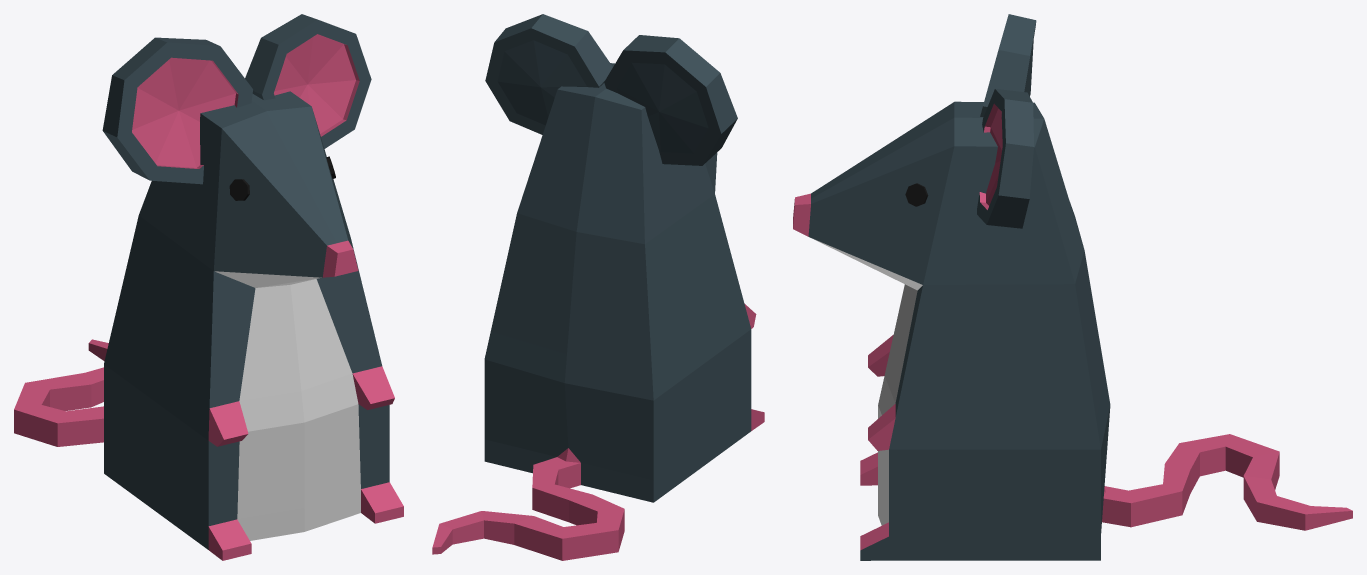
File: Mouse_01.fbx
The picture shows the model from 3 angles, left to right: view 1: azimuth 30°, elevation 25°; view 2: azimuth 150°, elevation 25°; view 3: azimuth 270°, elevation 25°; orthographic projection. The views are drawn at different scales.
Visible parts, largest first — view 1: Mouse_01; view 2: Mouse_01; view 3: Mouse_01.
Part boxes in pixels (bbox=[...]): Mouse_01: bbox=[14, 14, 403, 560]; Mouse_01: bbox=[432, 14, 764, 560]; Mouse_01: bbox=[793, 14, 1352, 560].
Bounding box in the file's own units: 4.57 × 7.87 × 8.57.
